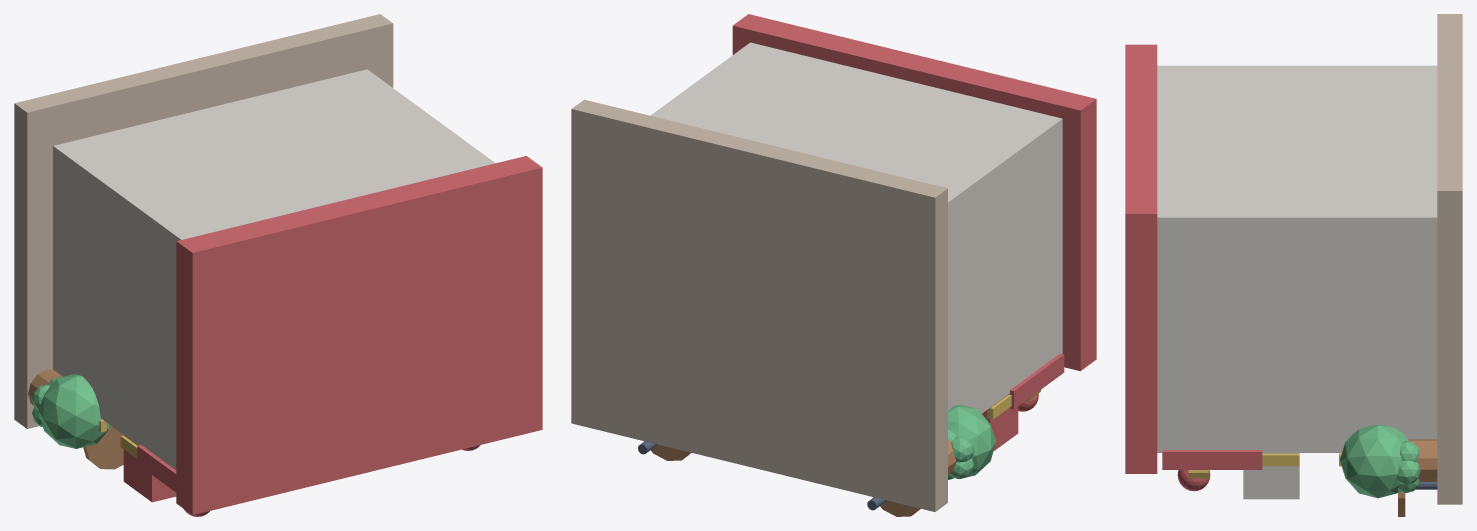
The model's file is restaurant_lod1.glb.
The picture shows the model from 3 angles, left to right: view 1: azimuth 30°, elevation 25°; view 2: azimuth 150°, elevation 25°; view 3: azimuth 270°, elevation 25°; orthographic projection.
Visible parts, largest first — view 1: roof_2, walls_1, plinth_0, plant_20, awning_5, table_27, signboard_3; view 2: plinth_0, walls_1, roof_2, plant_20, signboard_3, awning_5; view 3: walls_1, roof_2, plinth_0, plant_22, signboard_3, awning_12, planter_21, detail_window_trim_5, detail_foliage_28, detail_lantern_58.
Boxes of the visible parts, x1=… form: roof_2: x1=176, y1=156, x2=542, y2=515; walls_1: x1=53, y1=69, x2=495, y2=469; plinth_0: x1=14, y1=14, x2=393, y2=428; plant_20: x1=38, y1=374, x2=110, y2=448; awning_5: x1=123, y1=435, x2=176, y2=502; table_27: x1=83, y1=426, x2=123, y2=469; signboard_3: x1=137, y1=445, x2=176, y2=492; plinth_0: x1=571, y1=99, x2=947, y2=511; walls_1: x1=650, y1=42, x2=1062, y2=413; roof_2: x1=732, y1=14, x2=1096, y2=371; plant_20: x1=948, y1=405, x2=996, y2=479; signboard_3: x1=1008, y1=353, x2=1064, y2=409; awning_5: x1=982, y1=394, x2=1018, y2=451; walls_1: x1=1157, y1=65, x2=1437, y2=452; roof_2: x1=1125, y1=44, x2=1157, y2=473; plinth_0: x1=1437, y1=14, x2=1462, y2=504; plant_22: x1=1339, y1=424, x2=1408, y2=498; signboard_3: x1=1162, y1=450, x2=1262, y2=469; awning_12: x1=1243, y1=453, x2=1299, y2=499; planter_21: x1=1408, y1=439, x2=1437, y2=481; detail_window_trim_5: x1=1262, y1=453, x2=1299, y2=466; detail_foliage_28: x1=1397, y1=461, x2=1420, y2=485; detail_lantern_58: x1=1177, y1=470, x2=1210, y2=491.
Bounding box in the file's own units: 4.94 × 4.31 × 3.7.
